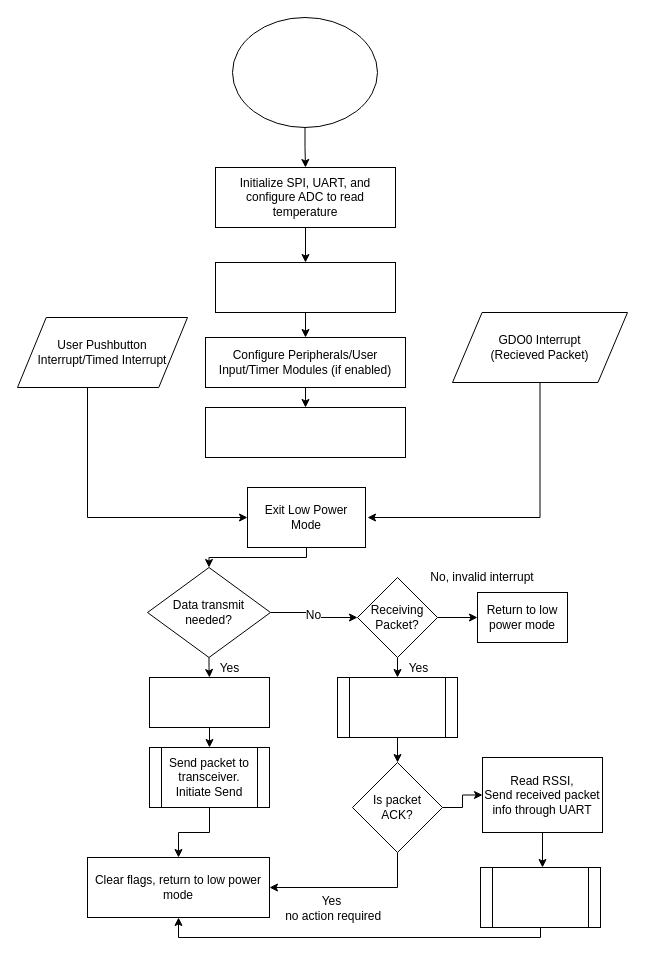
The diagram is 645 pixels wide and 963 high, and some of its shapes have lost their labels. Each missing label, with the centre of its shape:
Enable interrupts. Enter low power mode (with radio/interrupts enabled): (x=305, y=432)
MSP430 Initialization/Reset/POR: (x=305, y=72)
Read Temperature and fill data packet: (x=209, y=702)
Receive Packet from transceiver: (x=397, y=707)
Reset CC110L Tranciever, write radio settings using SPI: (x=305, y=287)
Send ACK, increment data packet number: (x=540, y=897)
